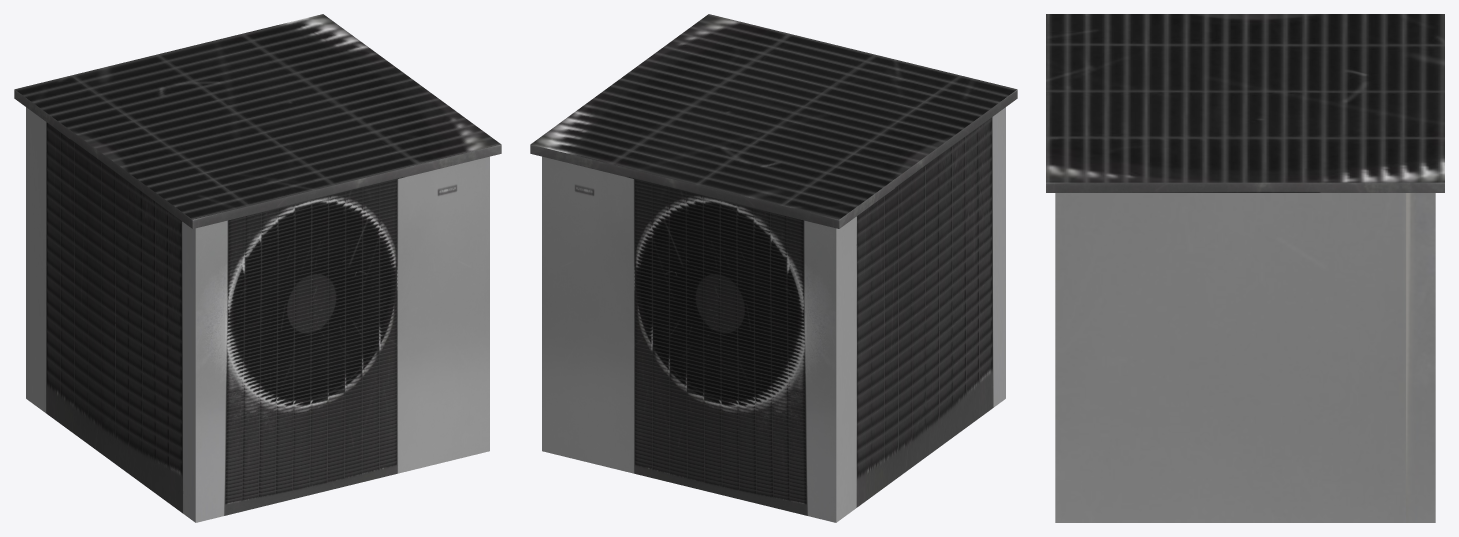
Rendered from yk_katto_lvi_viilennyspumppu.fbx.
3 views of the same model, side by side, from view 1: azimuth 30°, elevation 25°; view 2: azimuth 150°, elevation 25°; view 3: azimuth 270°, elevation 25° (orthographic). The views are drawn at different scales.
Parts seen in each view (by area): view 1: lvi-kone-idk.001; view 2: lvi-kone-idk.001; view 3: lvi-kone-idk.001.
Part boxes in pixels (x1,y1,x2,y2): lvi-kone-idk.001: (14, 14, 501, 522); lvi-kone-idk.001: (530, 14, 1017, 522); lvi-kone-idk.001: (1046, 14, 1444, 522).
Size of the model in its own units: 128 by 122 by 128.
